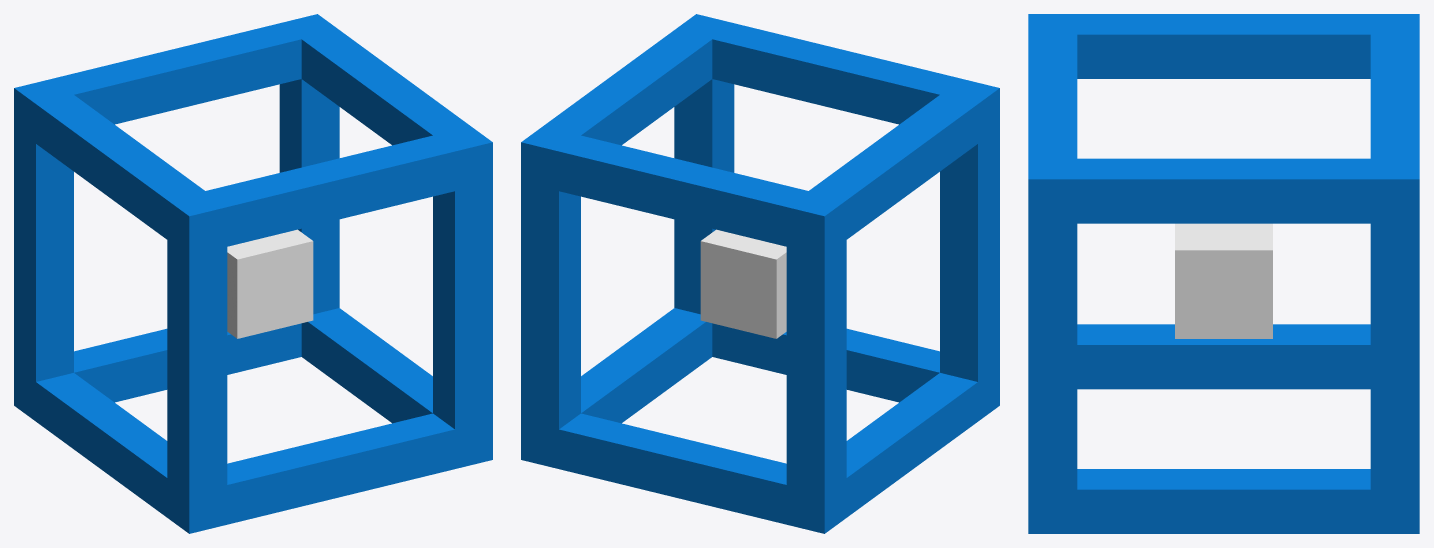
File: cube-checkpoint.glb
The picture shows the model from 3 angles, left to right: view 1: azimuth 30°, elevation 25°; view 2: azimuth 150°, elevation 25°; view 3: azimuth 270°, elevation 25°; orthographic projection. The views are drawn at different scales.
Parts seen in each view (by area): view 1: cube-checkpoint; view 2: cube-checkpoint; view 3: cube-checkpoint.
Boxes of the visible parts, x1,y1,x2,y2 form: cube-checkpoint: [14, 14, 492, 533]; cube-checkpoint: [521, 14, 999, 533]; cube-checkpoint: [1028, 14, 1419, 533].
Size of the model in its own units: 1 by 1 by 1.
